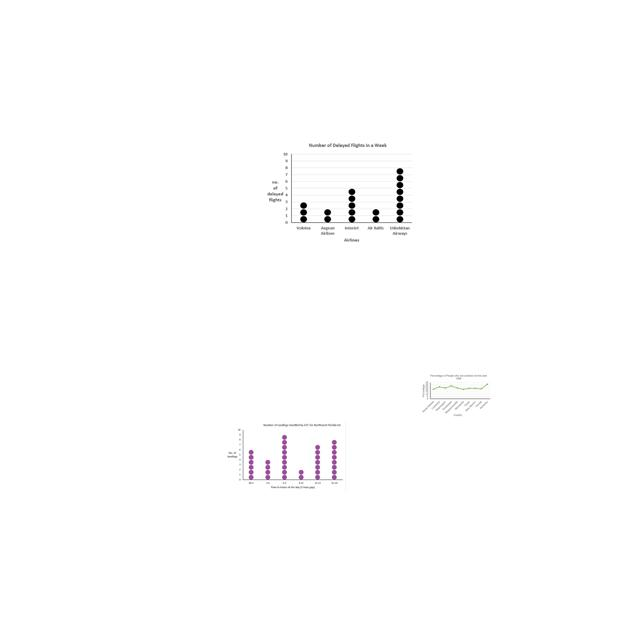Graph: (266, 141, 413, 243), (224, 421, 346, 492), (420, 373, 492, 418)
